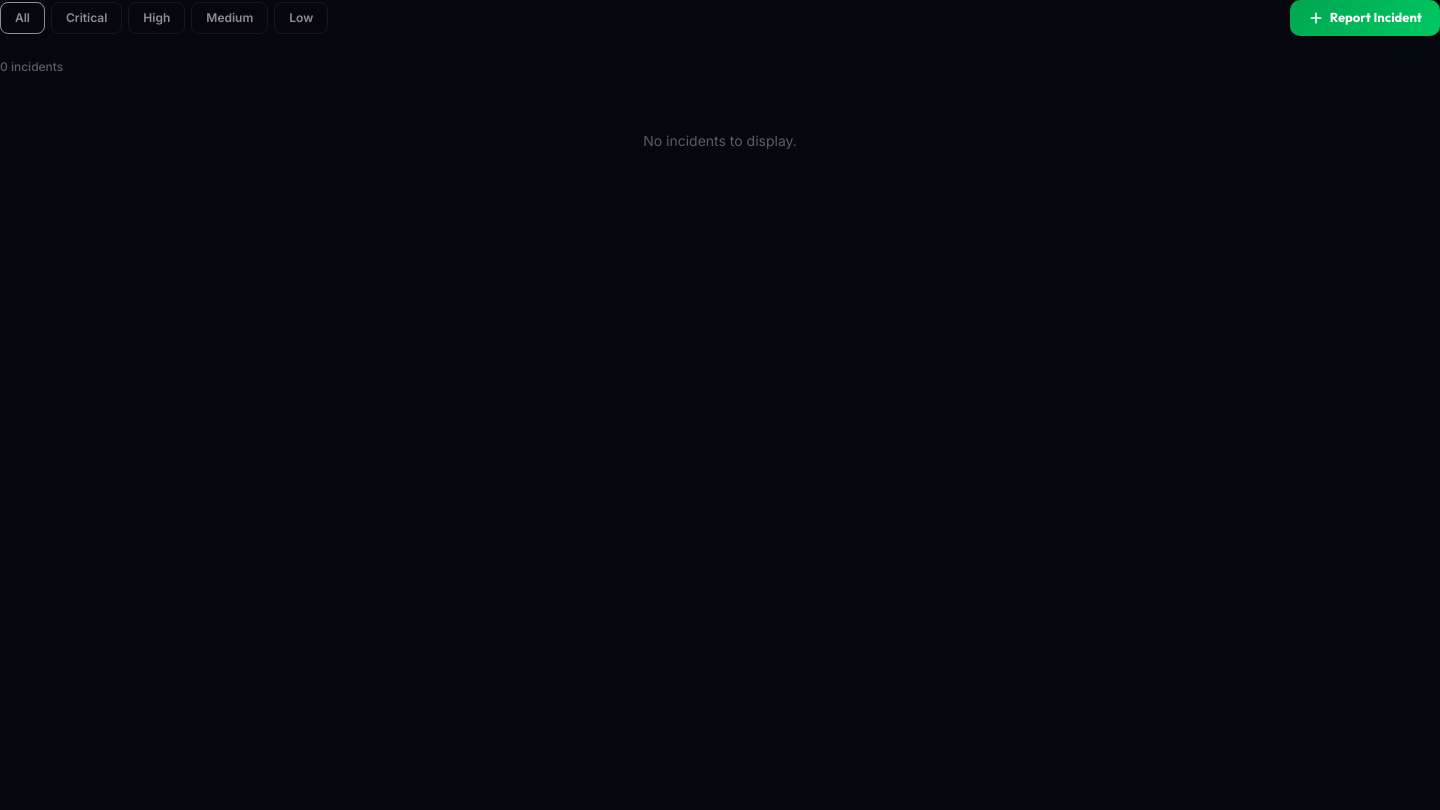
Test: Subcomponent Suite › IncidentFeed should render incident input layout
The image size is (1440, 810).
Step 1. Click the button "Report Incident" → click(1365, 18), box [1290,0,1439,36]
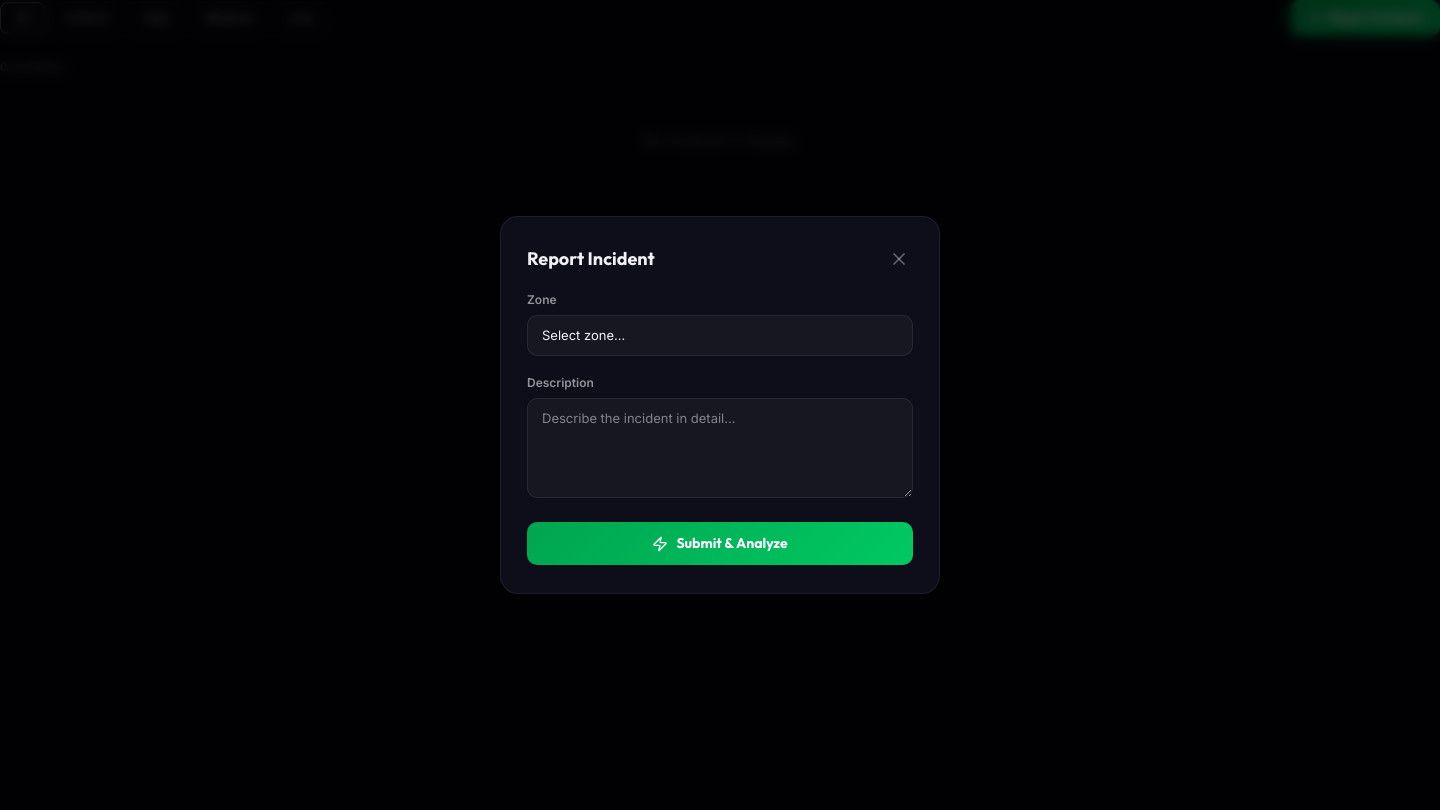
Result: the text box with placeholder "Describe the incident in detail…" is shown at [527,398,913,498]
